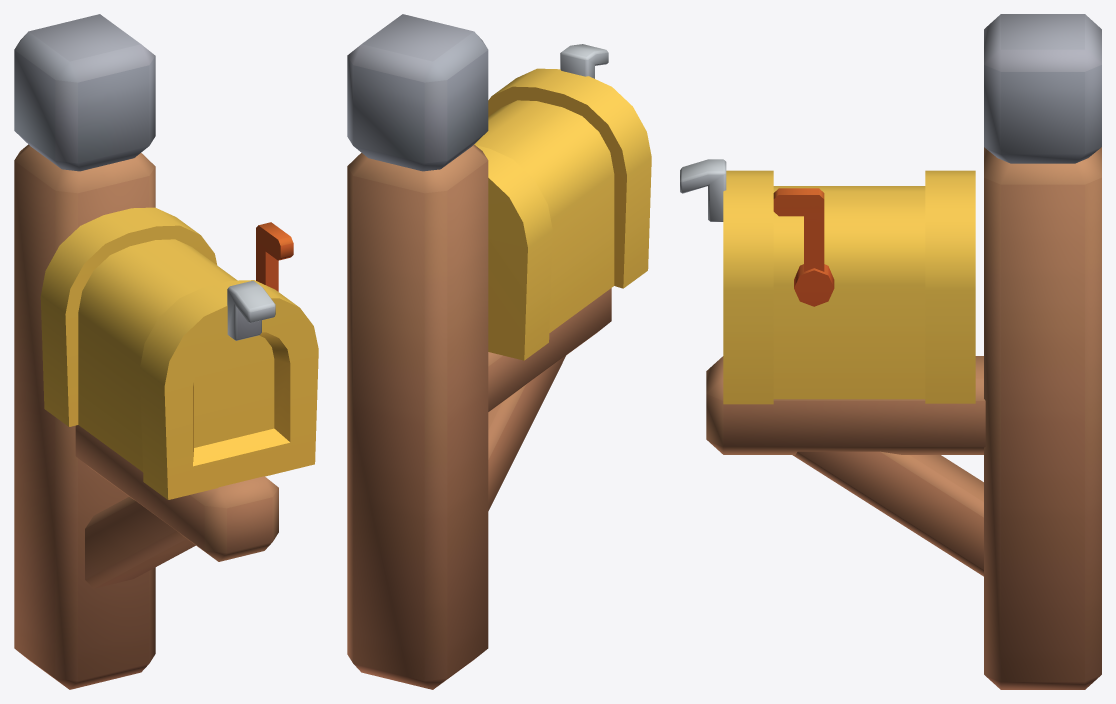
The model's file is mailbox2.glb.
The picture shows the model from 3 angles, left to right: view 1: azimuth 30°, elevation 25°; view 2: azimuth 150°, elevation 25°; view 3: azimuth 270°, elevation 25°; orthographic projection.
Visible parts, largest first — view 1: mailbox; view 2: mailbox; view 3: mailbox.
Boxes of the visible parts, x1,y1,x2,y2 form: mailbox: (14, 14, 318, 689); mailbox: (347, 14, 651, 689); mailbox: (680, 14, 1101, 689).
Size of the model in its own units: 0.5528 by 2.1 by 1.25.
1 material, 1 textured.
